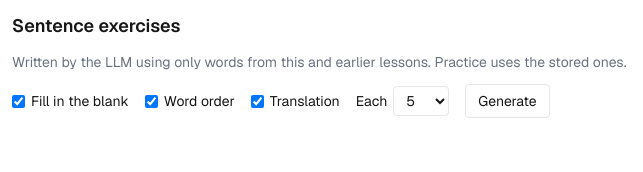
it: GenerateExercises › shows why a job could not start
Click the button "Generate" at (507, 101), box [465,84,550,118]
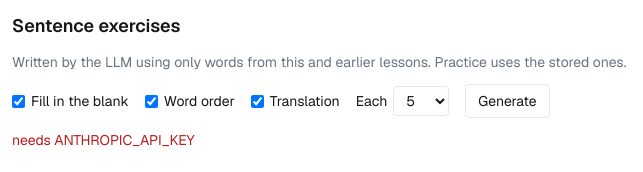
Now the message reads "needs ANTHROPIC_API_KEY", box [12,131,195,149]
